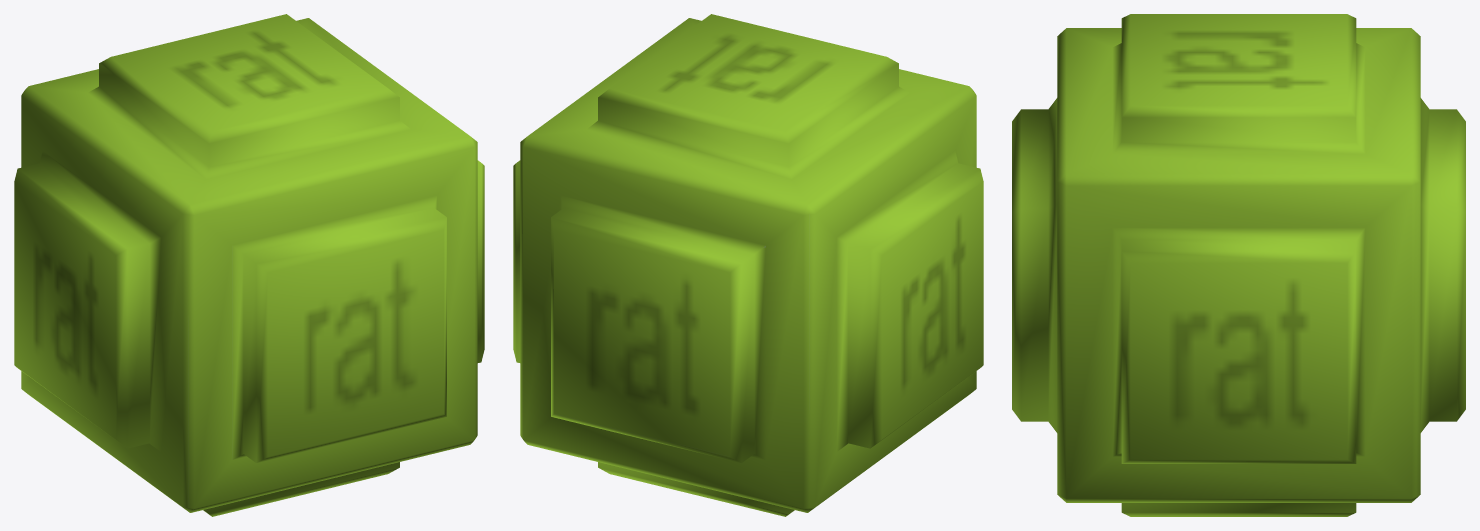
Rendered from BevelCubeObject_low.obj.
3 renders of one model, left to right at view 1: azimuth 30°, elevation 25°; view 2: azimuth 150°, elevation 25°; view 3: azimuth 270°, elevation 25°, orthographic. The views are drawn at different scales.
Parts seen in each view (by area): view 1: BevelCubeObject_low; view 2: BevelCubeObject_low; view 3: BevelCubeObject_low.
Part boxes in pixels (x1,y1,x2,y2): BevelCubeObject_low: [14, 14, 484, 516]; BevelCubeObject_low: [513, 14, 983, 516]; BevelCubeObject_low: [1012, 14, 1465, 516].
Size of the model in its own units: 2.5 by 2.5 by 2.5.
